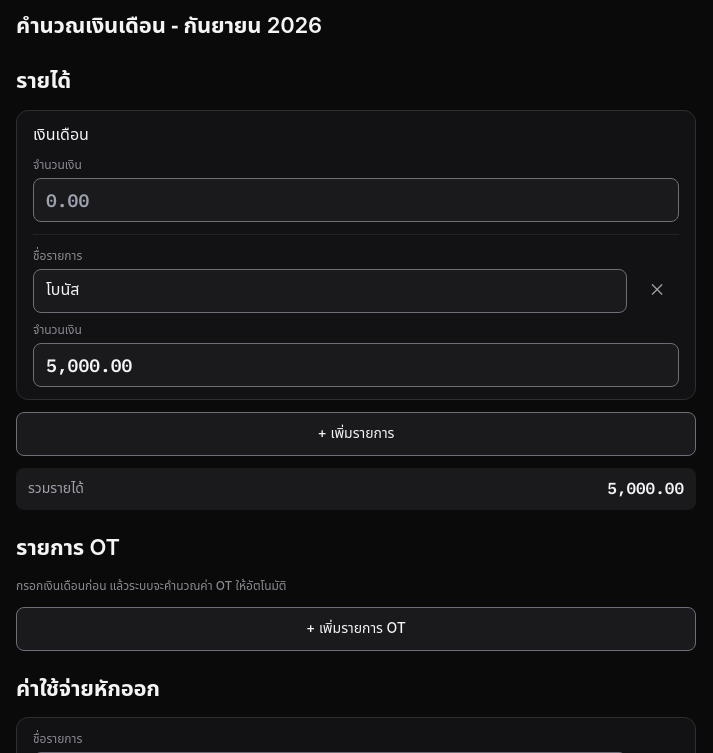
Test: SalaryCalculator — รายการ OT (Increment 3) › K14/AC-OT-28: hours keep the raw string while typing and normalise only on blur; adding a row never reformats another field
The width and height of the screenshot is (713, 753).
Click the button "+ เพิ่มรายการ OT": (356, 629) [16,607,696,651]
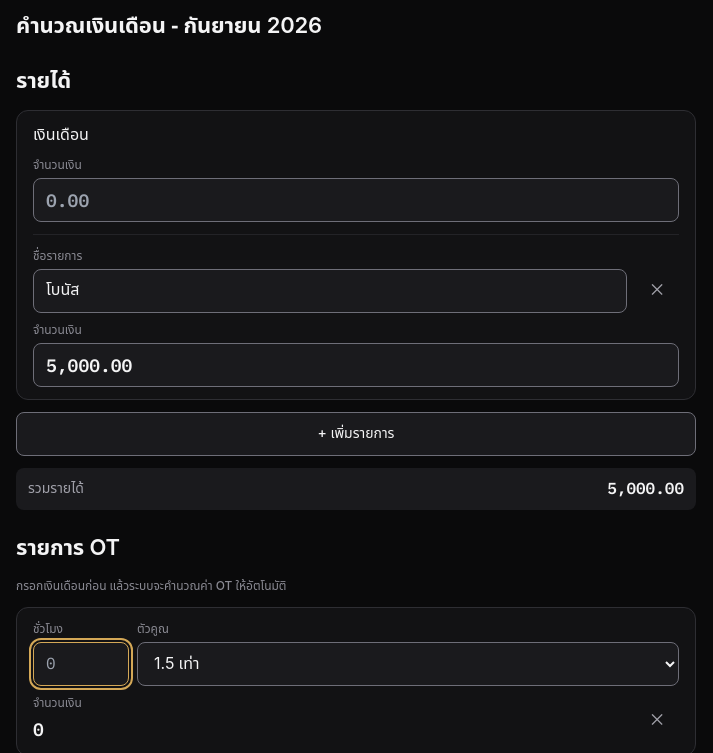
In the field named "จำนวนชั่วโมง OT": (81, 664) [33,642,129,686], type "7."
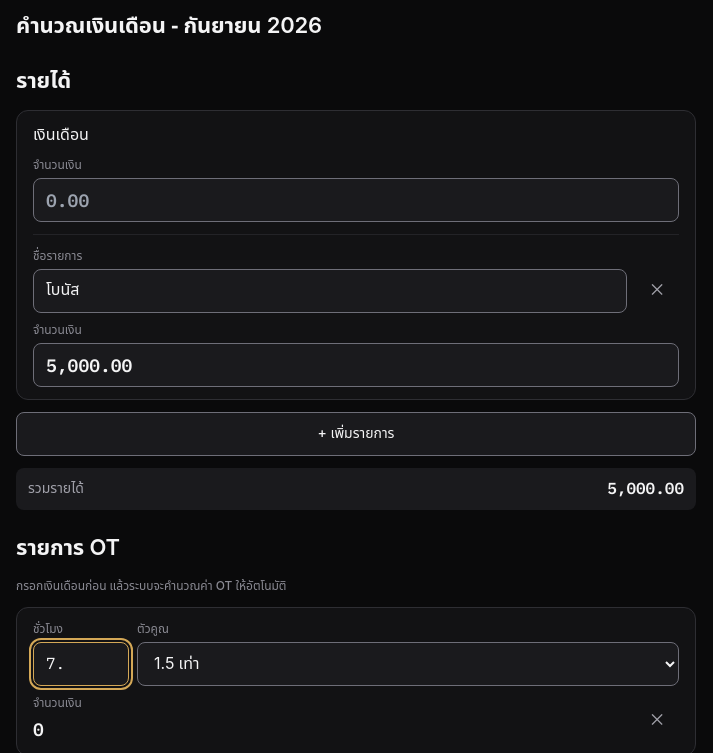
Press Tab
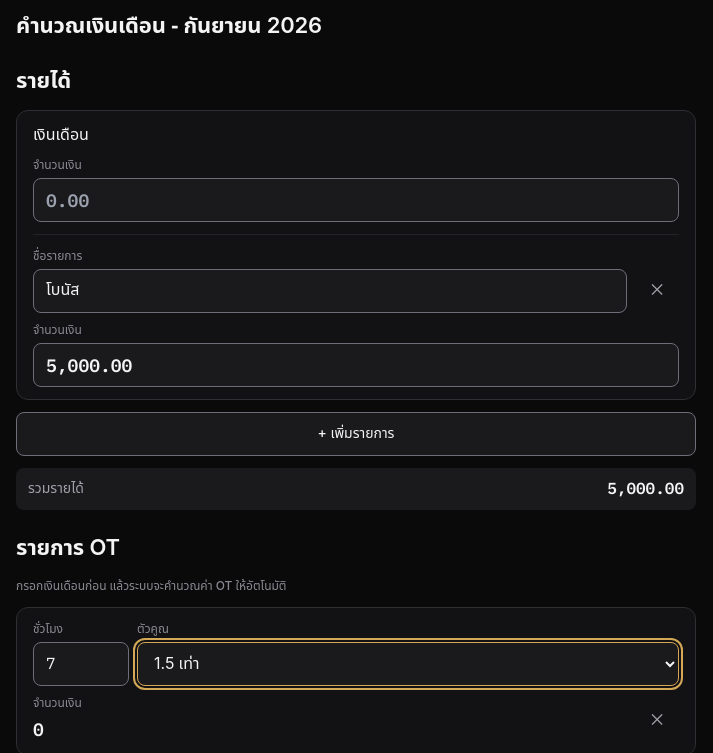
Replace the text in the field named "จำนวนชั่วโมง OT" with "-5": (81, 664) [33,642,129,686]
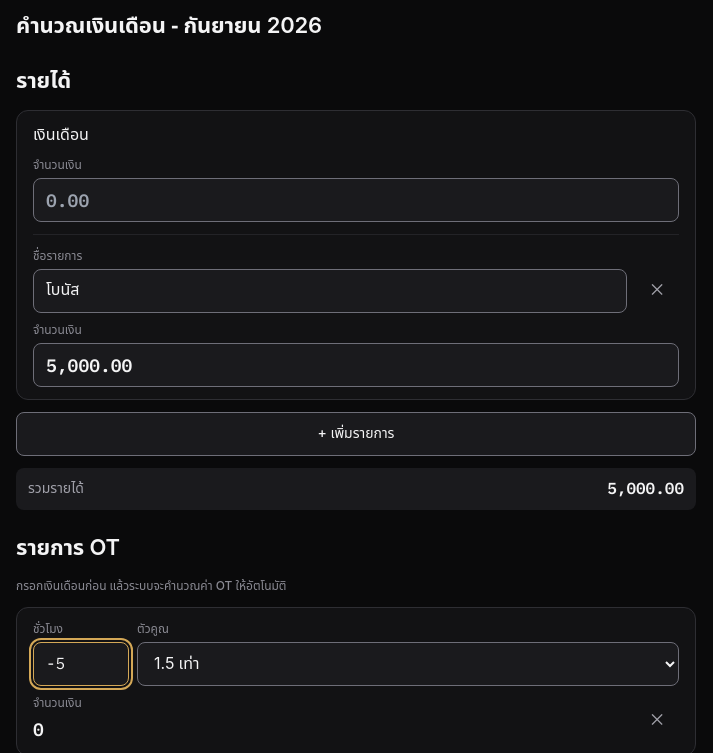
Press Tab
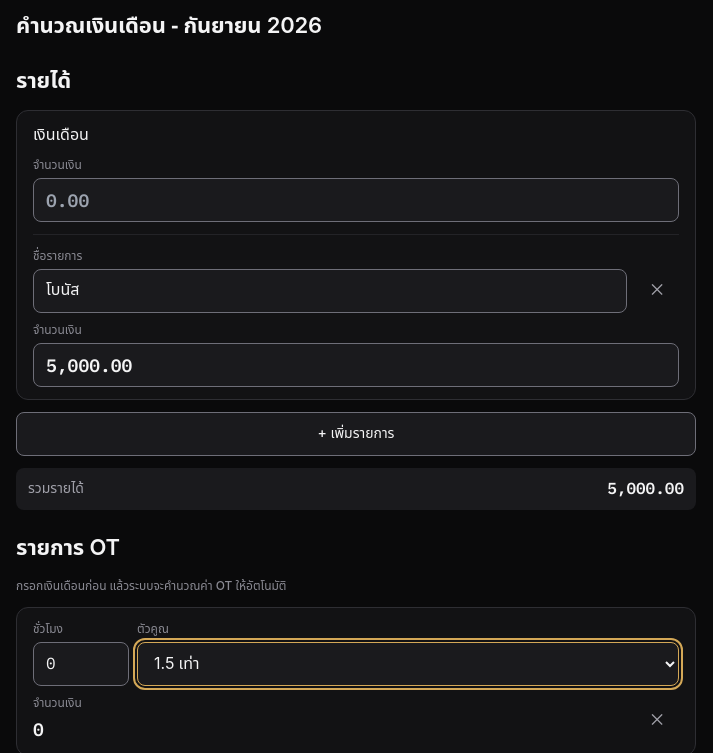
Check: the field named "จำนวนชั่วโมง OT" holds "0", box [33,642,129,686]
